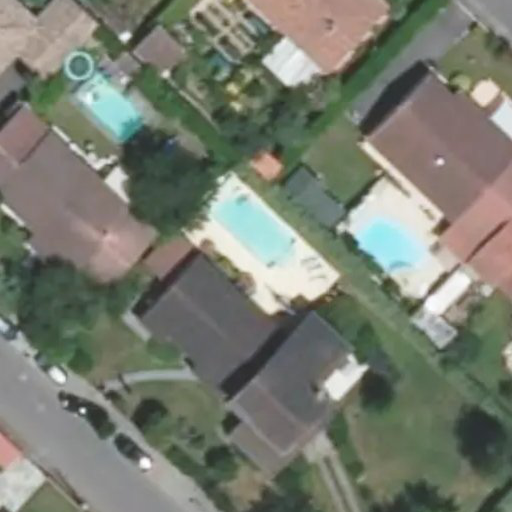pool: (211, 228, 310, 265)
